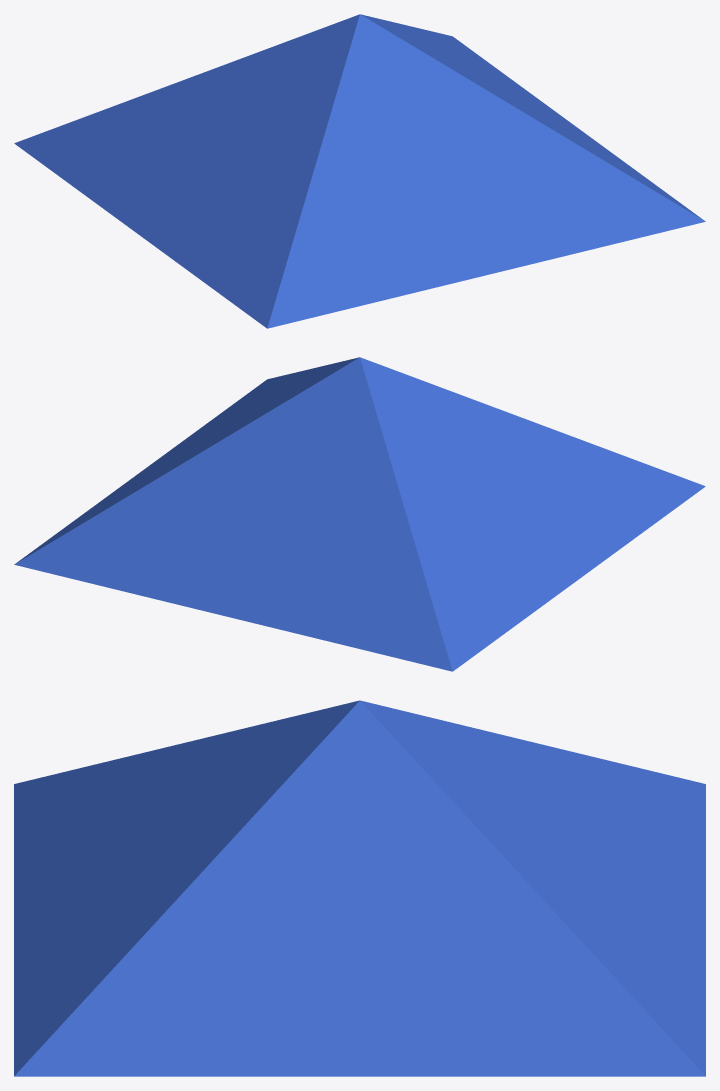
The model's file is BuildingParent.fbx.
The picture shows the model from 3 angles, top to bottom: view 1: azimuth 30°, elevation 25°; view 2: azimuth 150°, elevation 25°; view 3: azimuth 270°, elevation 25°; orthographic projection. The views are drawn at different scales.
Visible parts, largest first — view 1: BuildingParent; view 2: BuildingParent; view 3: BuildingParent.
Boxes of the visible parts, x1,y1,x2,y2 form: BuildingParent: (14,14,705,328); BuildingParent: (14,357,705,671); BuildingParent: (14,700,705,1076).
Size of the model in its own units: 225 by 82.5 by 225.
